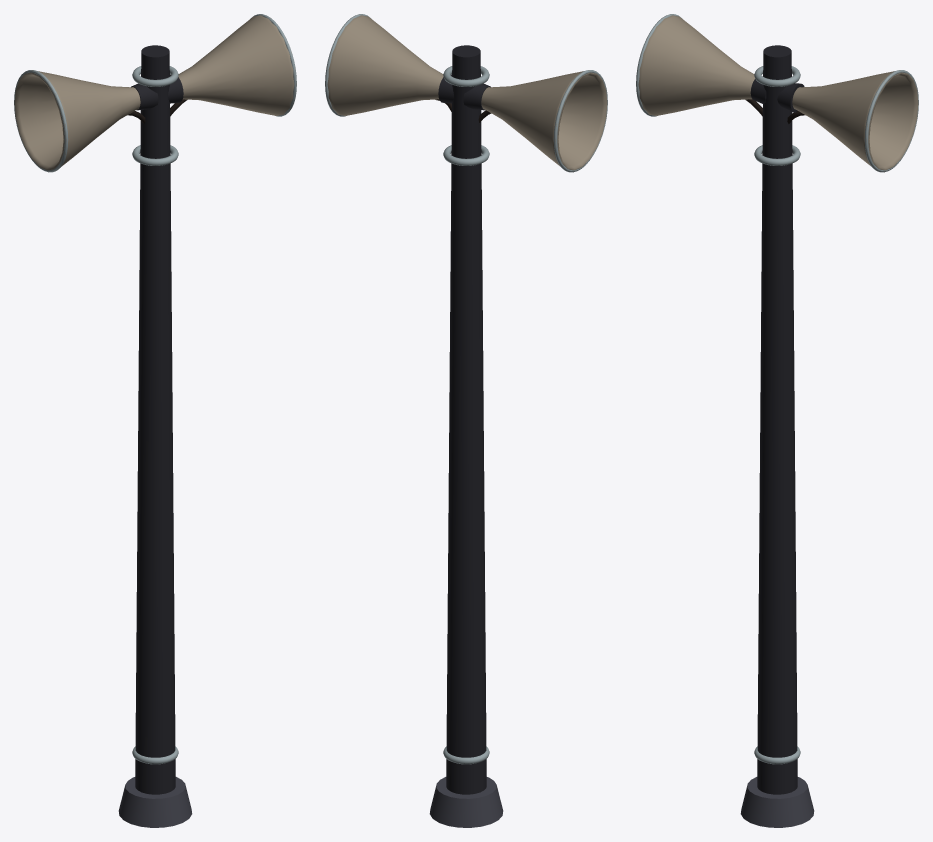
Rendered from mia-speaker_pole.glb.
3 views of the same model, side by side, from view 1: azimuth 30°, elevation 25°; view 2: azimuth 150°, elevation 25°; view 3: azimuth 330°, elevation 25° (orthographic).
Parts seen in each view (by area): view 1: Body_iron, Body_mattress-seam, Body_stone, Body_steel; view 2: Body_iron, Body_mattress-seam, Body_stone, Body_steel; view 3: Body_iron, Body_mattress-seam, Body_stone, Body_steel.
Boxes of the visible parts, box(x1,y1,x2,y2) form: Body_iron: box(131, 45, 183, 794); Body_mattress-seam: box(14, 14, 296, 170); Body_stone: box(118, 777, 192, 827); Body_steel: box(14, 14, 296, 764); Body_iron: box(438, 45, 490, 794); Body_mattress-seam: box(325, 14, 607, 170); Body_stone: box(429, 777, 503, 827); Body_steel: box(325, 14, 607, 764); Body_iron: box(750, 45, 804, 794); Body_mattress-seam: box(636, 14, 918, 170); Body_stone: box(740, 777, 814, 827); Body_steel: box(636, 14, 918, 764).
Bounding box in the file's own units: 1.02 × 3.2 × 0.398.
